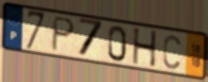0: (107, 25, 129, 63)
7: (78, 16, 105, 60), (25, 9, 47, 52)
C: (162, 33, 182, 71)
H: (132, 27, 159, 69)
P: (50, 15, 77, 53)
